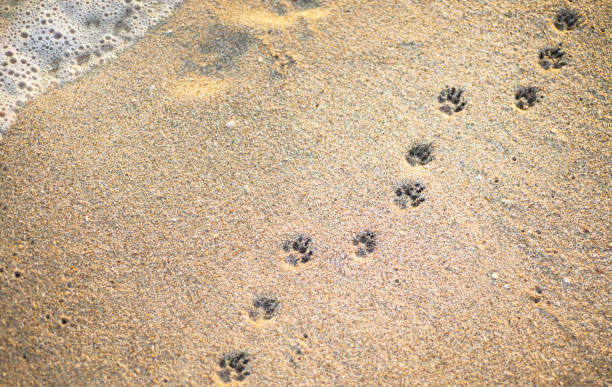animal_foot_print: (217, 351, 251, 383), (282, 235, 312, 265), (393, 180, 425, 208), (437, 87, 466, 114), (249, 295, 279, 320), (515, 86, 543, 110), (553, 8, 583, 30), (352, 230, 376, 257), (405, 142, 433, 165), (538, 47, 566, 69)
